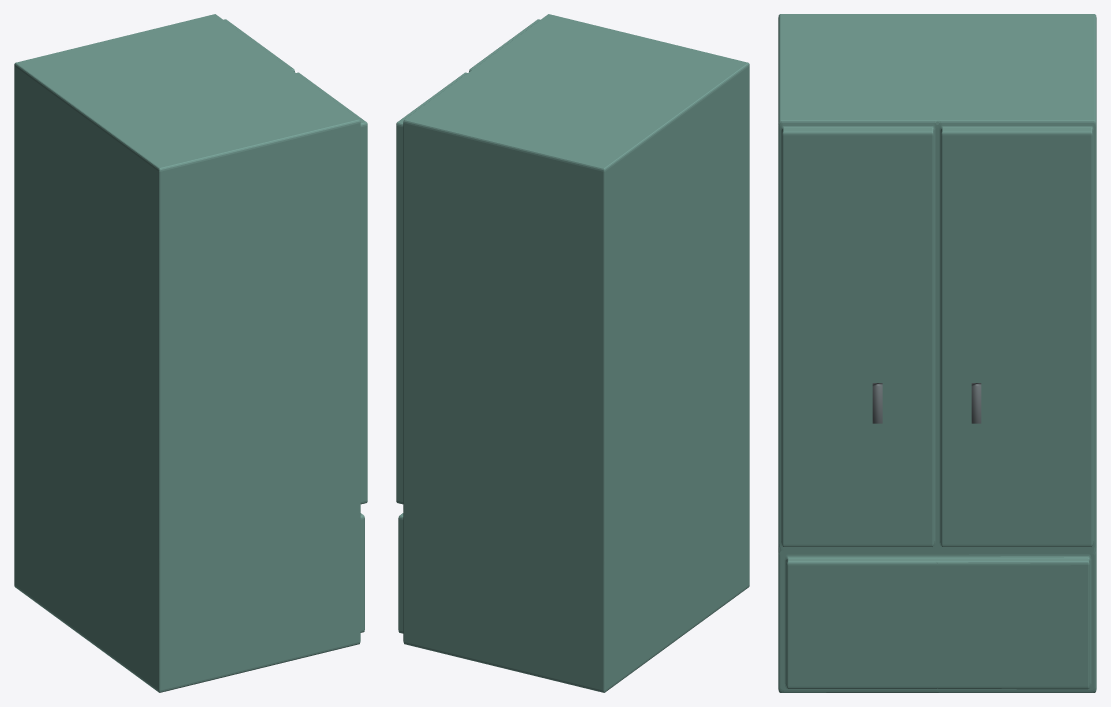
The model's file is Fridge.fbx.
3 renders of one model, left to right at view 1: azimuth 30°, elevation 25°; view 2: azimuth 150°, elevation 25°; view 3: azimuth 270°, elevation 25°, orthographic. The views are drawn at different scales.
Visible parts, largest first — view 1: Cube.049; view 2: Cube.049; view 3: Cube.049.
Boxes of the visible parts, x1=… form: Cube.049: x1=14, y1=14, x2=367, y2=692; Cube.049: x1=396, y1=14, x2=749, y2=692; Cube.049: x1=778, y1=14, x2=1096, y2=692.
Size of the model in its own units: 246 by 567 by 285.
